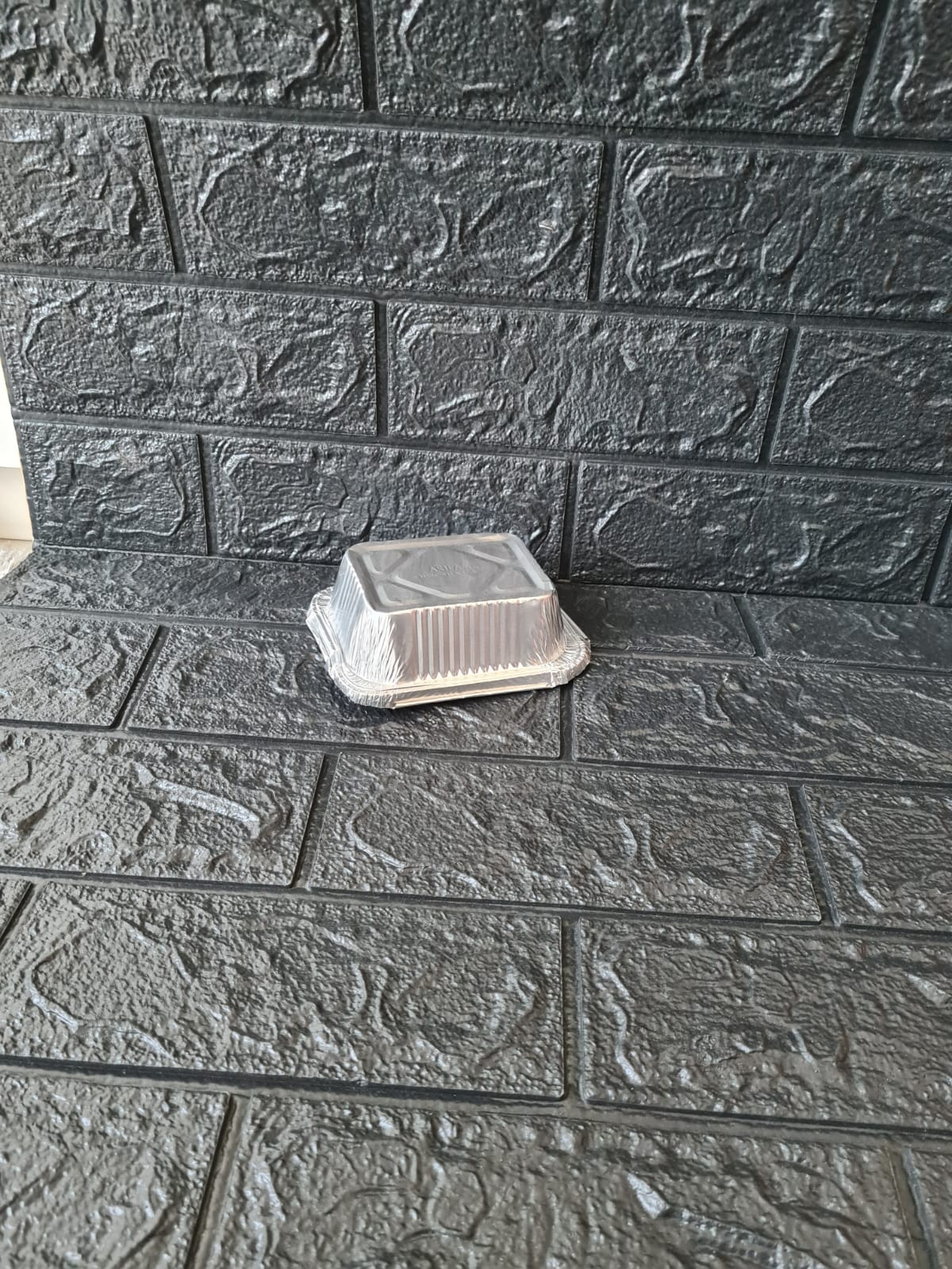Metal: (282, 527, 606, 719)
